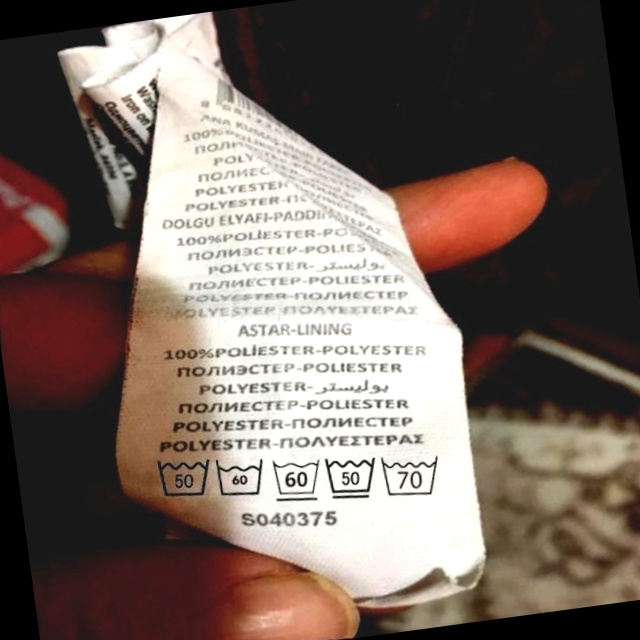50C: (148, 446, 219, 507), (319, 448, 384, 507)
60C: (267, 449, 329, 507), (210, 450, 273, 506)
70C: (378, 447, 450, 504)
